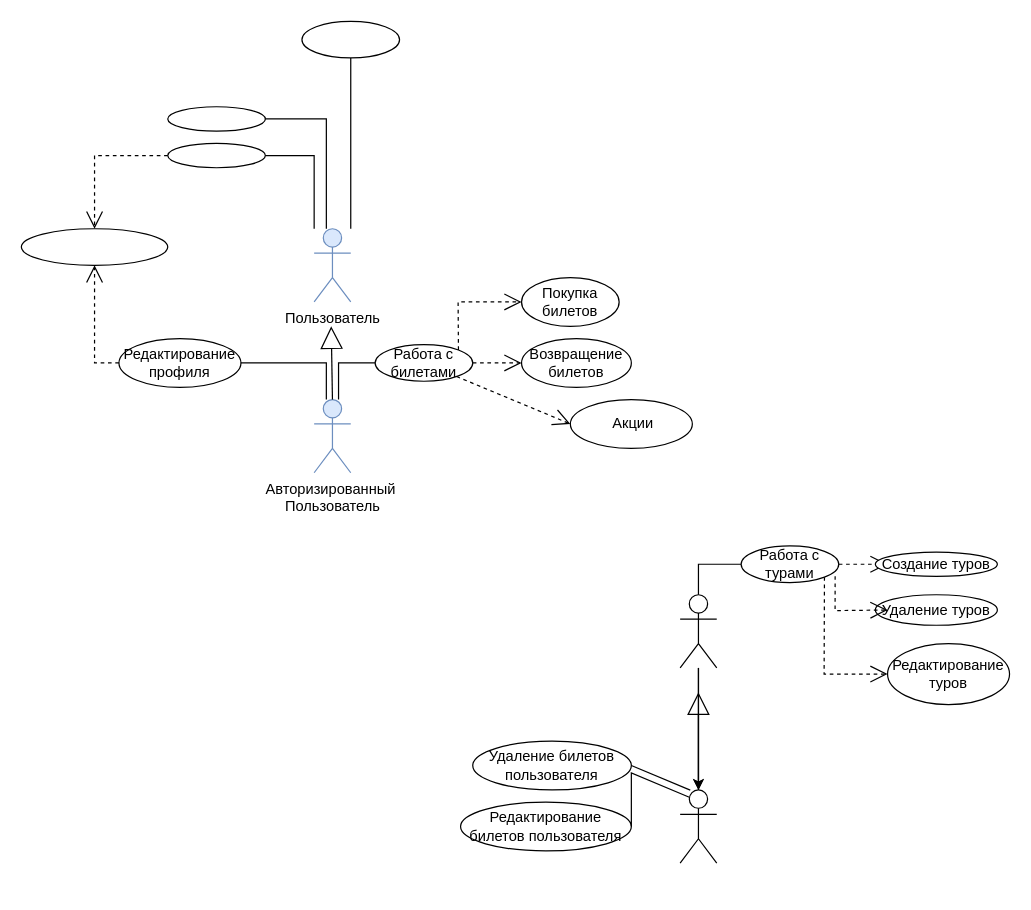
This 1031x910 diagram has some shape labels left out. The shapes that lost their labels are listed below. From the top down, each one's box as (x1, y1, x2, y2) in pixels, then its label:
(301, 20, 400, 58): Просмотр туров
(167, 106, 265, 131): Вход
(167, 142, 265, 168): Регистрация
(20, 228, 168, 265): Подтверждение номера
(679, 594, 717, 668): Работник
(679, 789, 717, 863): Администратор
